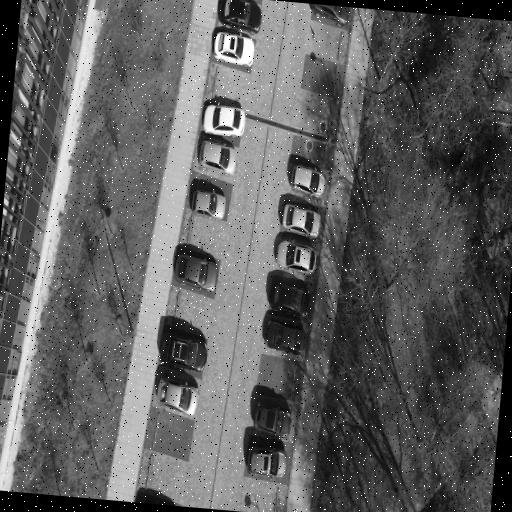person: (159, 332, 206, 371), (174, 255, 217, 291), (156, 379, 198, 415), (217, 0, 260, 34), (213, 31, 253, 67), (269, 280, 309, 315), (202, 105, 244, 137), (198, 140, 236, 174), (276, 241, 315, 274), (265, 321, 304, 354), (281, 204, 320, 237), (254, 403, 290, 438), (247, 447, 286, 479), (290, 166, 325, 196), (191, 191, 225, 220), (312, 4, 349, 26)
